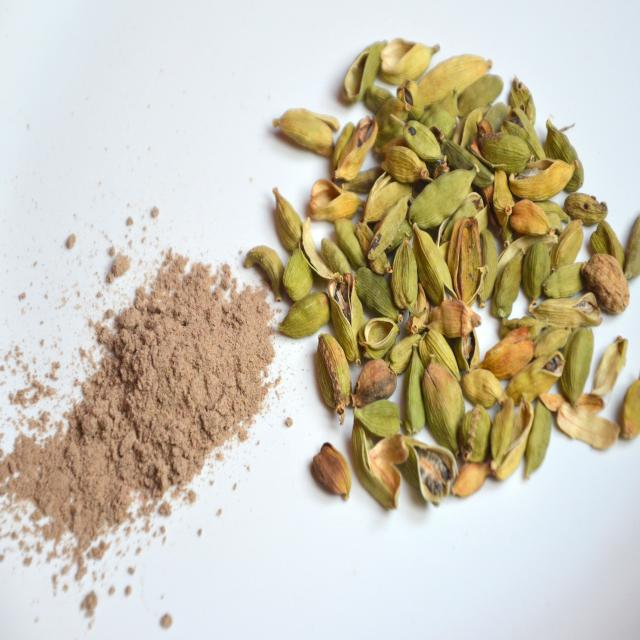Cardamom: (278, 27, 640, 523), (415, 344, 475, 452), (403, 160, 478, 240), (266, 95, 341, 162), (276, 286, 334, 350), (557, 317, 595, 413)
